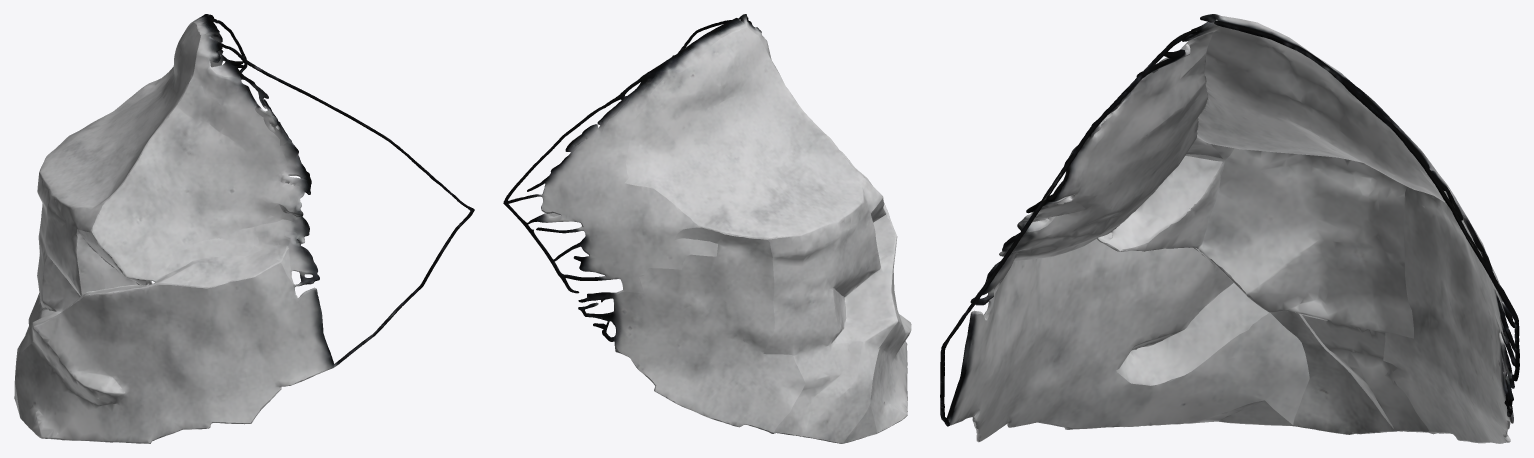
3 renders of one model, left to right at view 1: azimuth 30°, elevation 25°; view 2: azimuth 150°, elevation 25°; view 3: azimuth 270°, elevation 25°, orthographic. The views are drawn at different scales.
Parts seen in each view (by area): view 1: world; view 2: world; view 3: world.
Part boxes in pixels (bbox=[...]): world: bbox=[14, 14, 474, 443]; world: bbox=[503, 14, 911, 443]; world: bbox=[940, 14, 1519, 443].
Bounding box in the file's own units: 0.12 × 0.1254 × 0.1252.
Materials: 1 (1 with a texture image).
